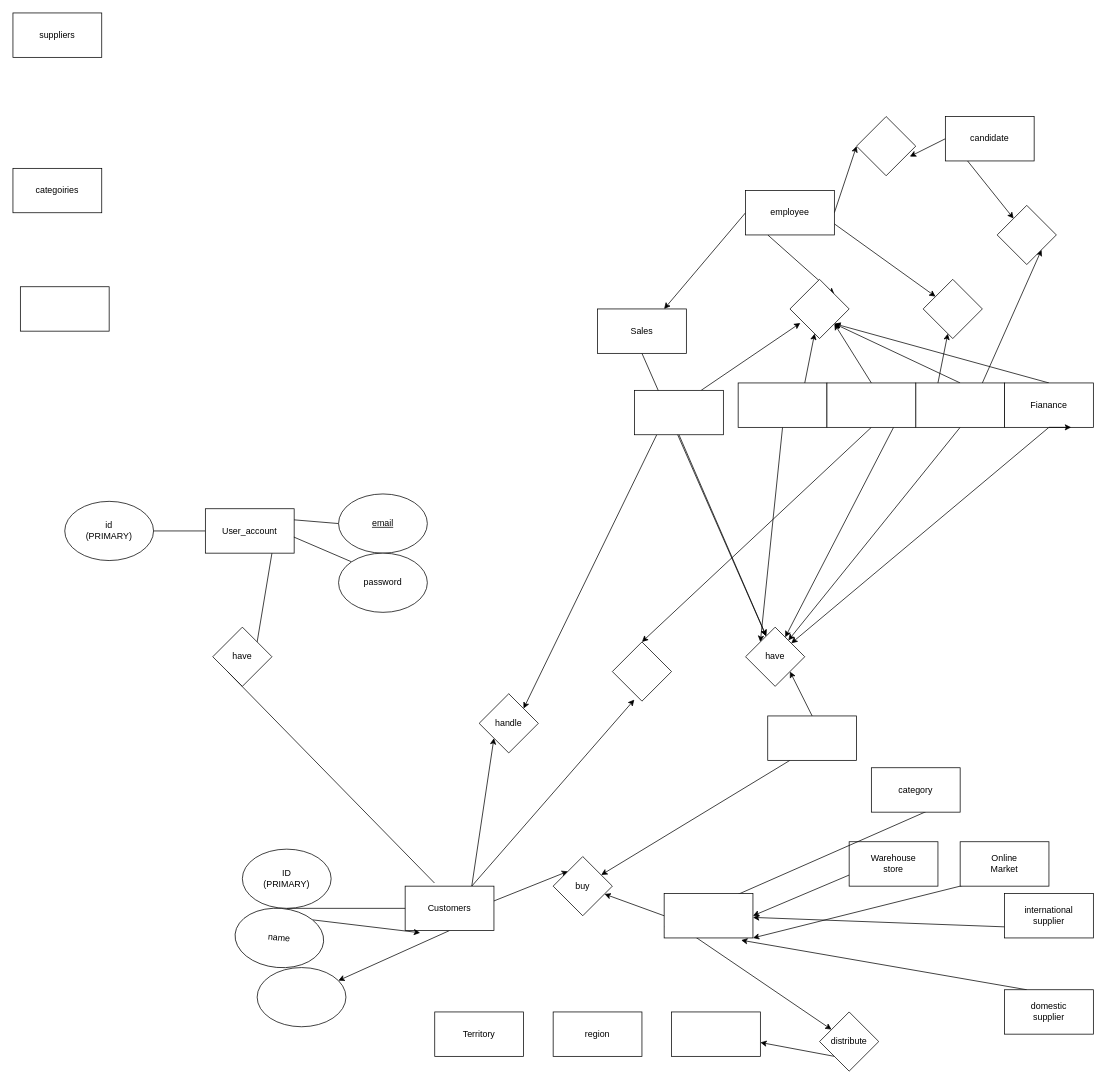
Some shapes in this 1106 by 1084 pixel diagram are drawn without their labels. Each missing label, with the box of its shape:
address: (256, 967, 346, 1027)
advertise: (612, 641, 672, 701)
become: (856, 116, 916, 176)
Costco: (767, 715, 857, 760)
customer_service: (634, 390, 723, 435)
HR: (915, 382, 1005, 427)
innovation: (737, 382, 827, 427)
interview: (996, 205, 1056, 265)
manage: (922, 279, 982, 339)
Marketing: (826, 382, 916, 427)
product: (663, 893, 753, 938)
storage: (671, 1011, 760, 1056)
work_for: (789, 279, 849, 339)
